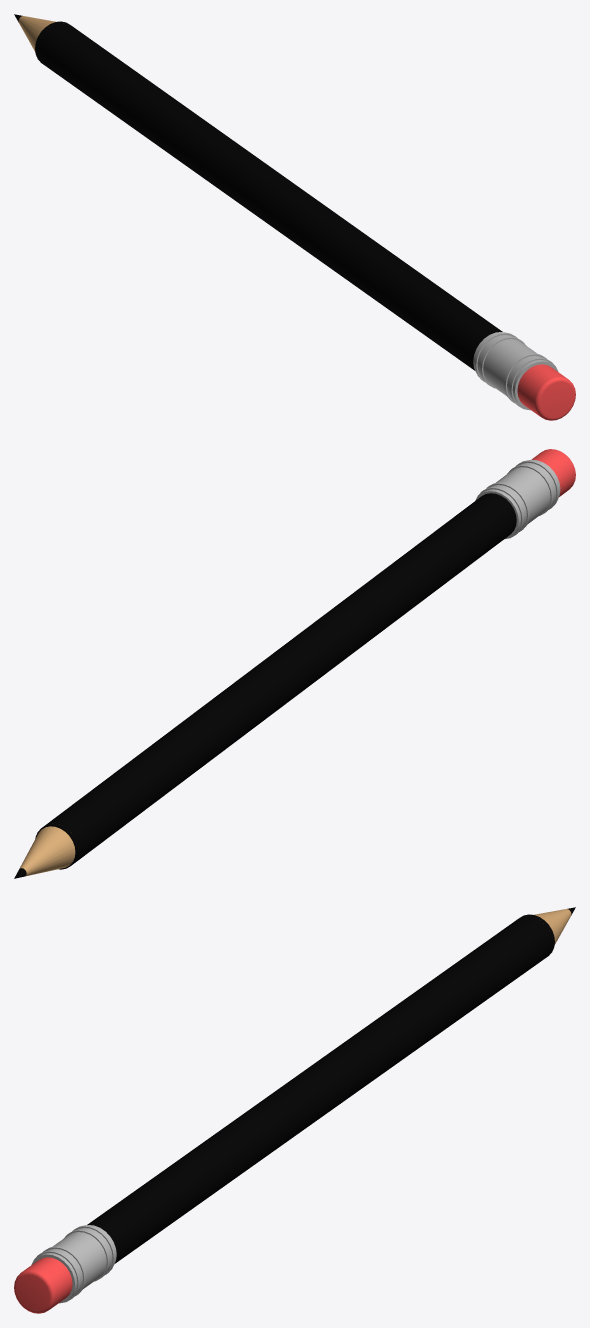
The picture shows the model from 3 angles, top to bottom: view 1: azimuth 30°, elevation 25°; view 2: azimuth 150°, elevation 25°; view 3: azimuth 330°, elevation 25°; orthographic projection.
Visible parts, largest first — view 1: pencil; view 2: pencil; view 3: pencil.
Boxes of the visible parts, bbox=[...] form: pencil: bbox=[14, 14, 575, 420]; pencil: bbox=[14, 449, 575, 878]; pencil: bbox=[14, 907, 575, 1313].
Size of the model in its own units: 0.00968 by 0.0111 by 0.19.
